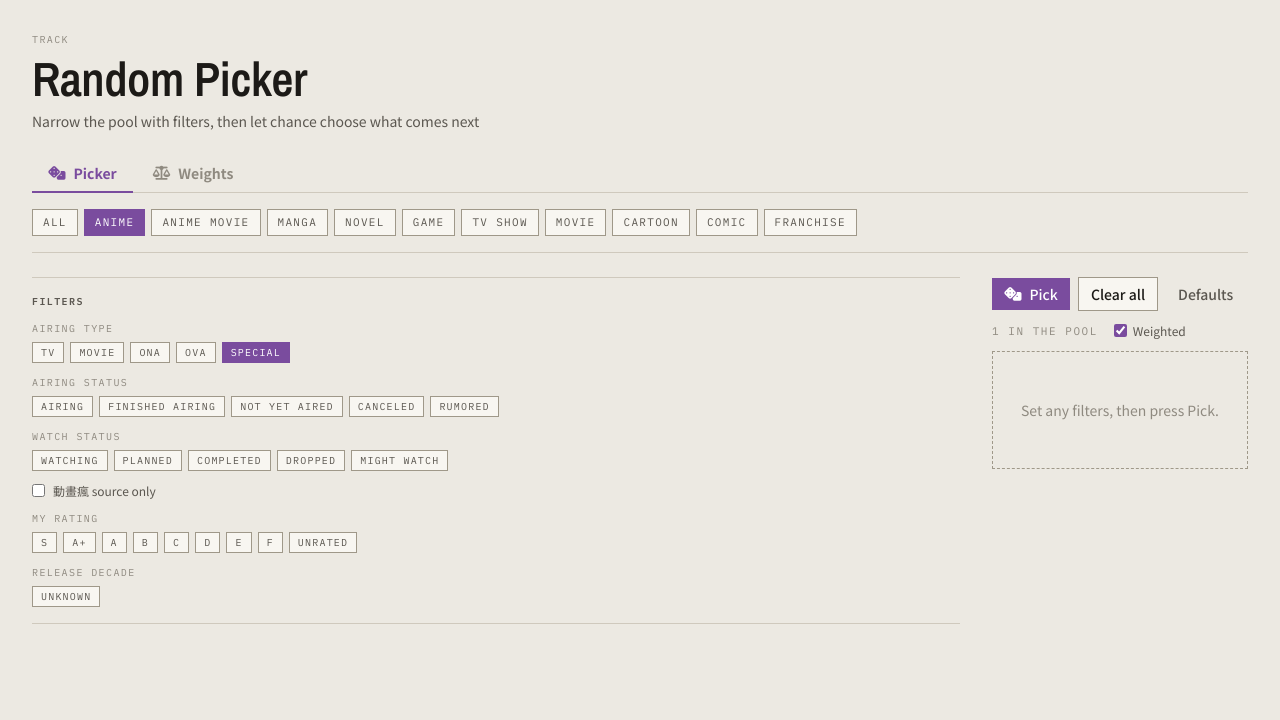
opens a mode on its saved defaults, and Defaults brings them back
Expected: the text "1 in the pool" is shown, [992, 322, 1098, 339]
Click the button "Clear all" at (1118, 294), box [1078, 276, 1158, 310]
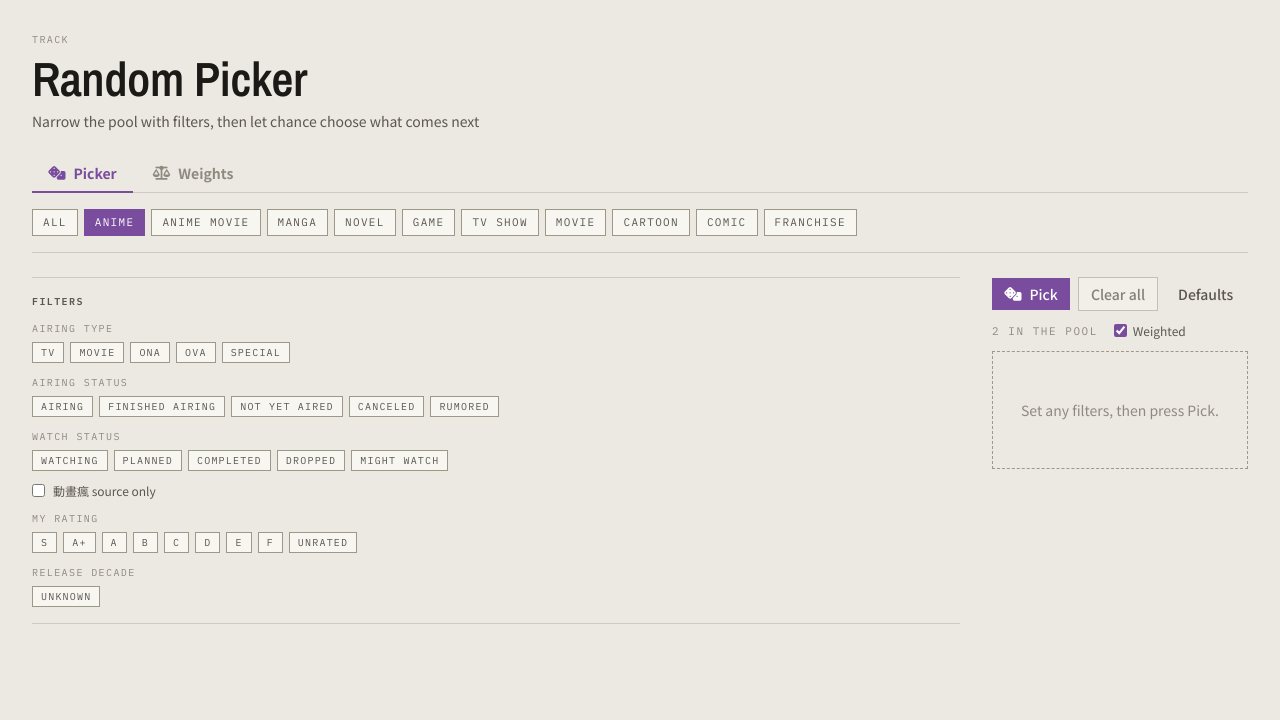
Expected: the text "2 in the pool" is shown, [992, 322, 1098, 339]
Click the button "Defaults" at (1206, 294), box [1166, 278, 1245, 310]
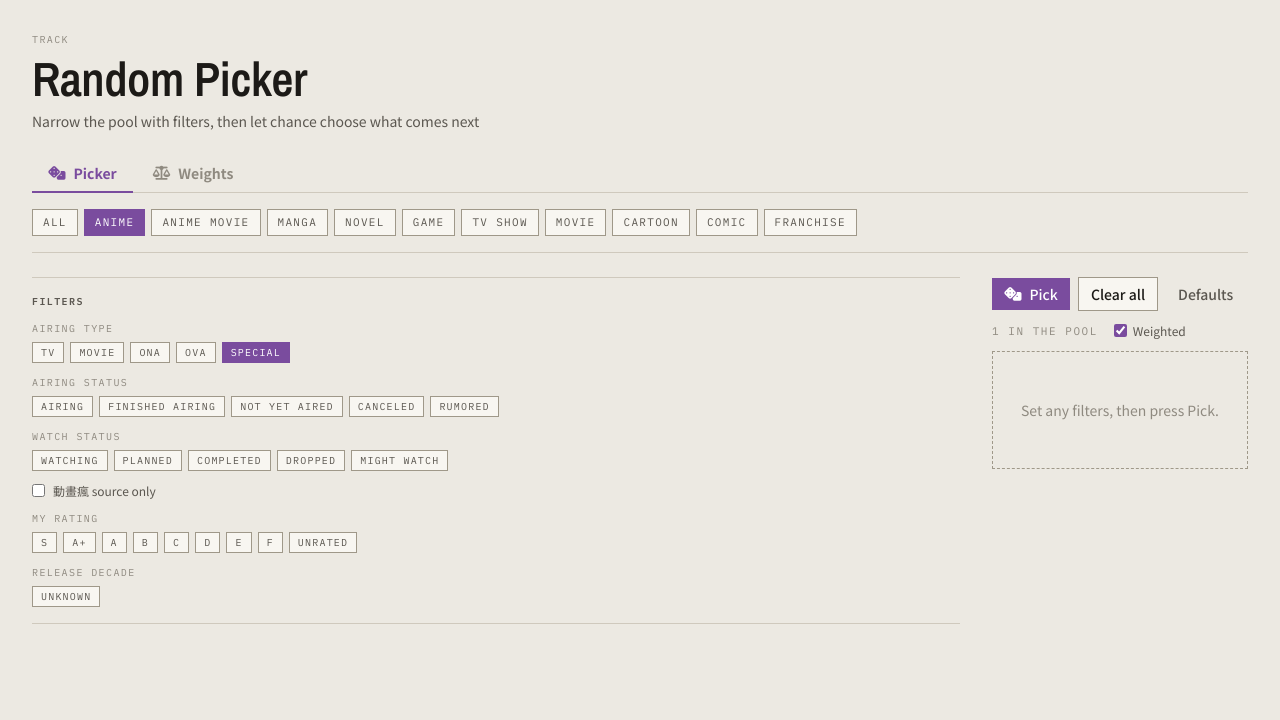
Expected: the text "1 in the pool" is shown, [992, 322, 1098, 339]
